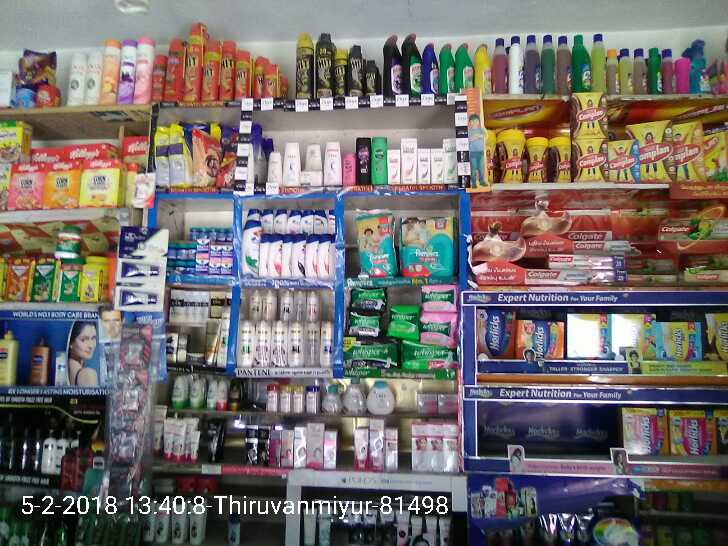vicks: (169, 228, 234, 275)
